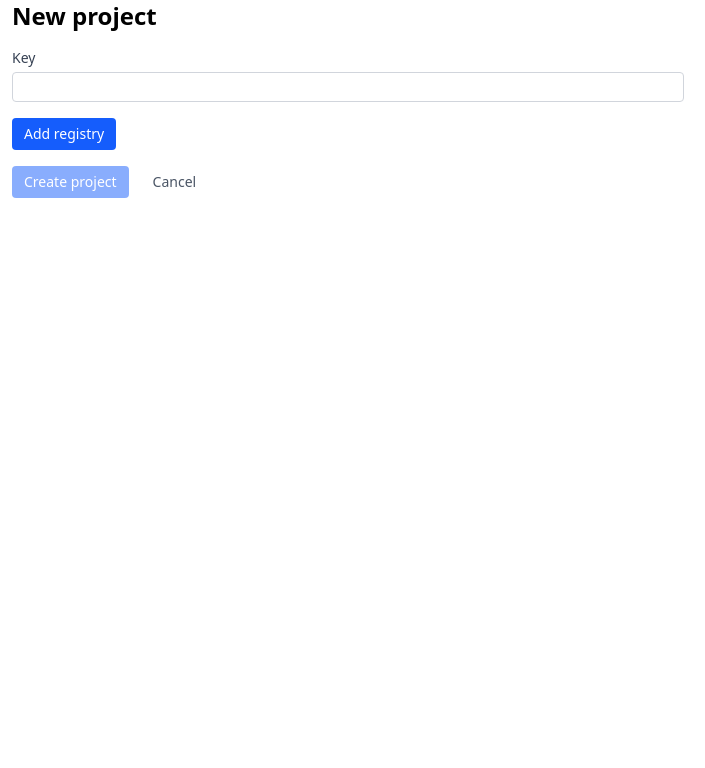
ProjectCreatePage › shows the server error message on a 400 unknown registry
Type "my-new-app" into the field labelled "Key" at (348, 87), box [12,72,684,102]
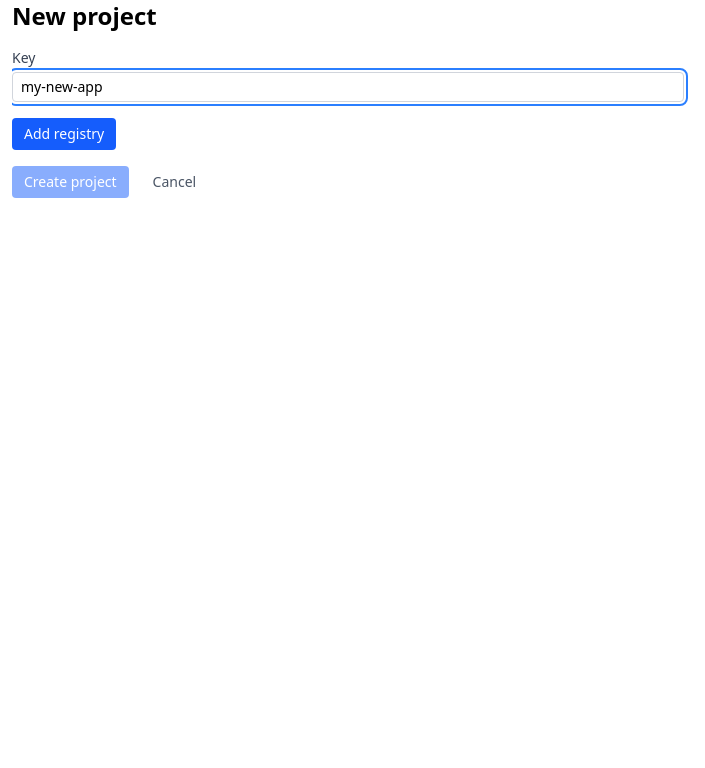
Click the button "Add registry" at (64, 134), box [12,118,116,150]
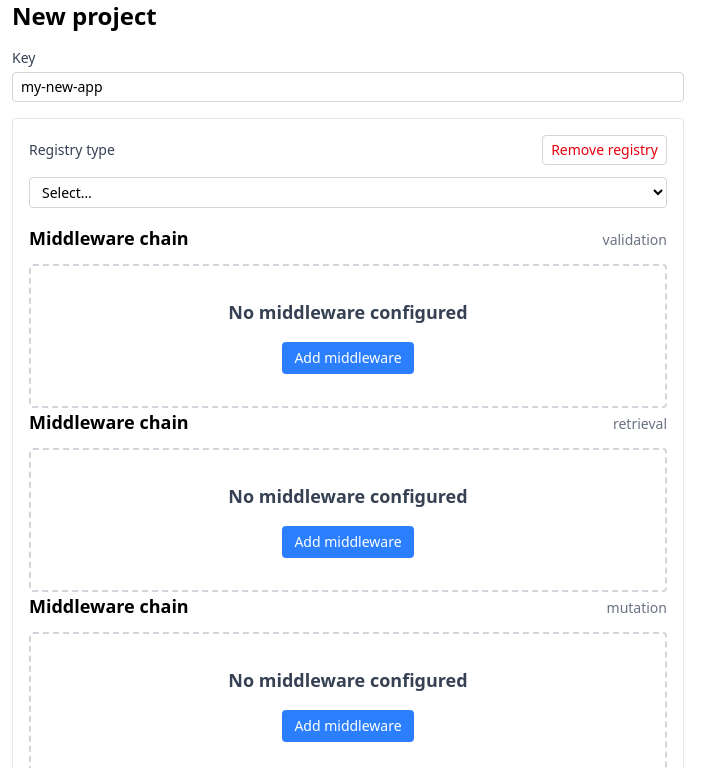
Select "npm" in the dropdown named "Registry type" at (348, 192), box [29,177,667,208]
(page scrolled)
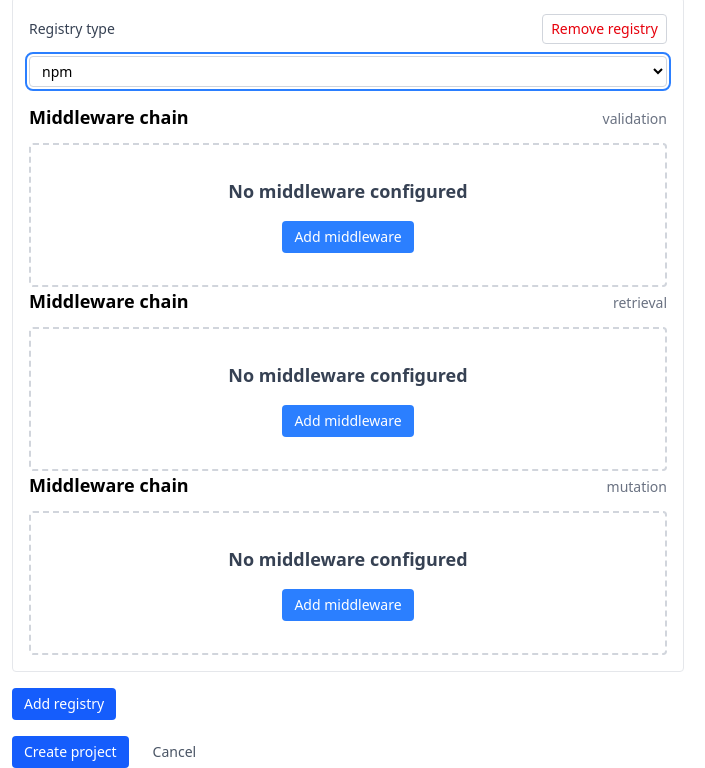
Click the button "Create project" at (70, 752), box [12,736,129,767]
(page scrolled)
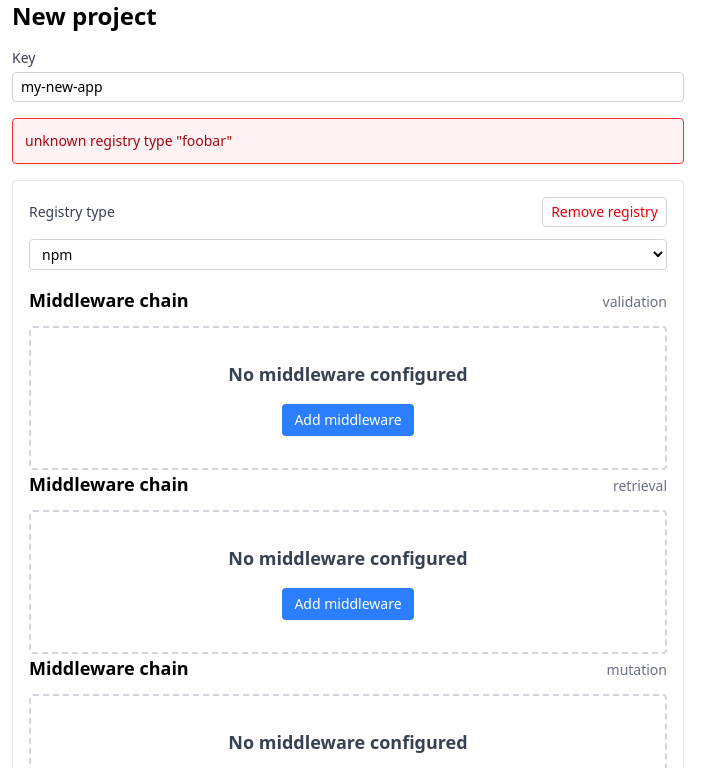
expect the message with test id "submit-error" shows "unknown registry": met, box [25,131,232,150]
